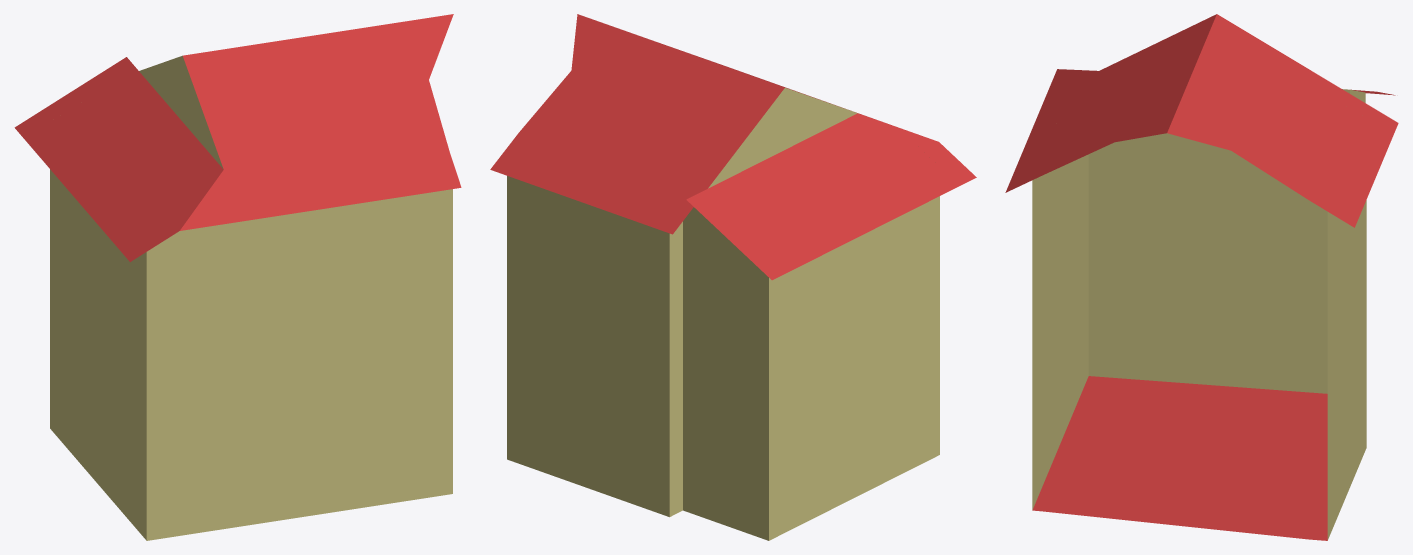
3 views of the same model, side by side, from view 1: azimuth 30°, elevation 25°; view 2: azimuth 150°, elevation 25°; view 3: azimuth 270°, elevation 25° (orthographic). The views are drawn at different scales.
Bounding box in the file's own units: 15.54 × 14.24 × 16.41.
